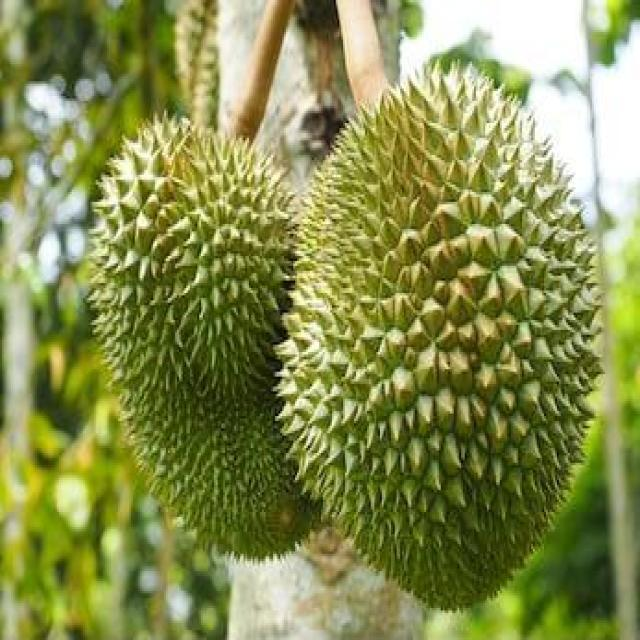immature: (277, 58, 609, 620), (84, 112, 327, 560)
